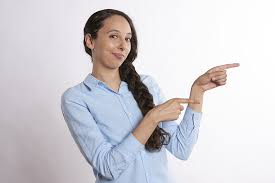hand: (145, 96, 200, 126)
